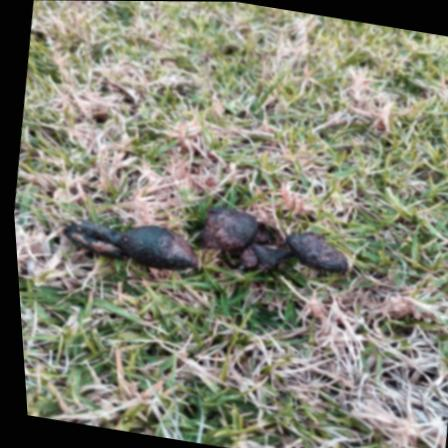dog-poop: (53, 179, 352, 307)
